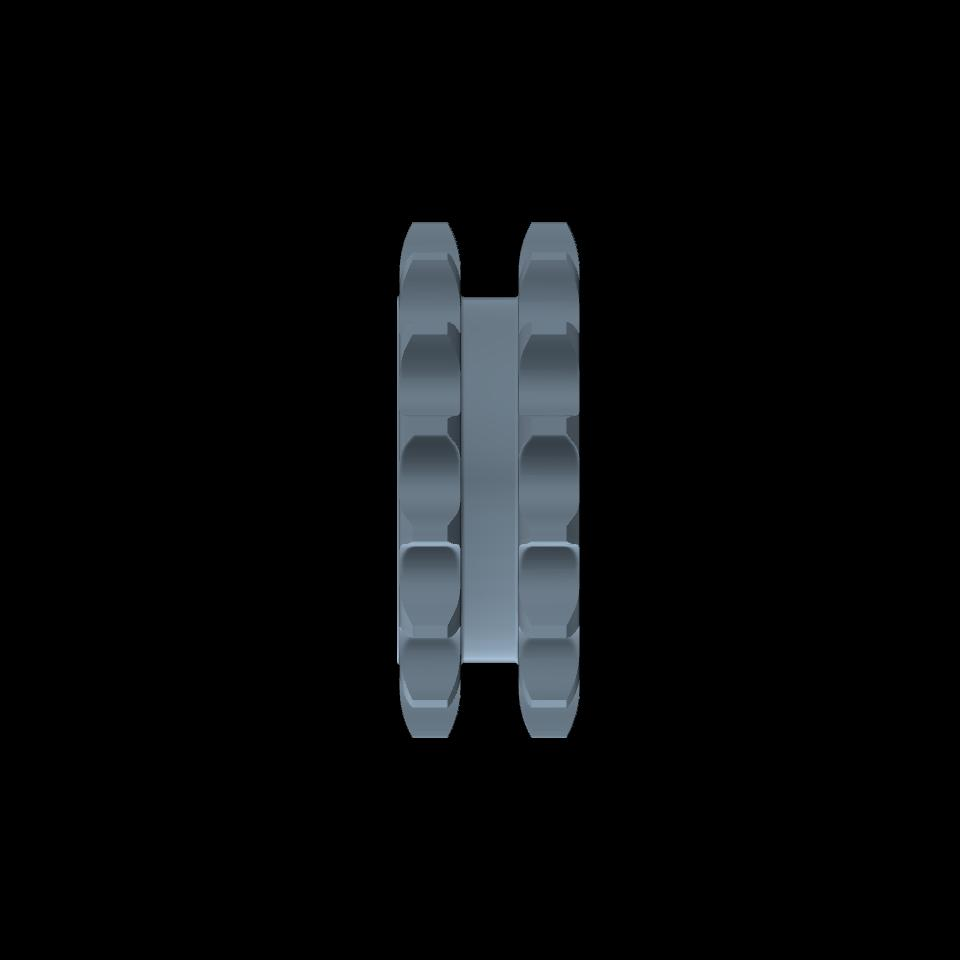Straight: (530, 222, 570, 737), (413, 222, 447, 738)
